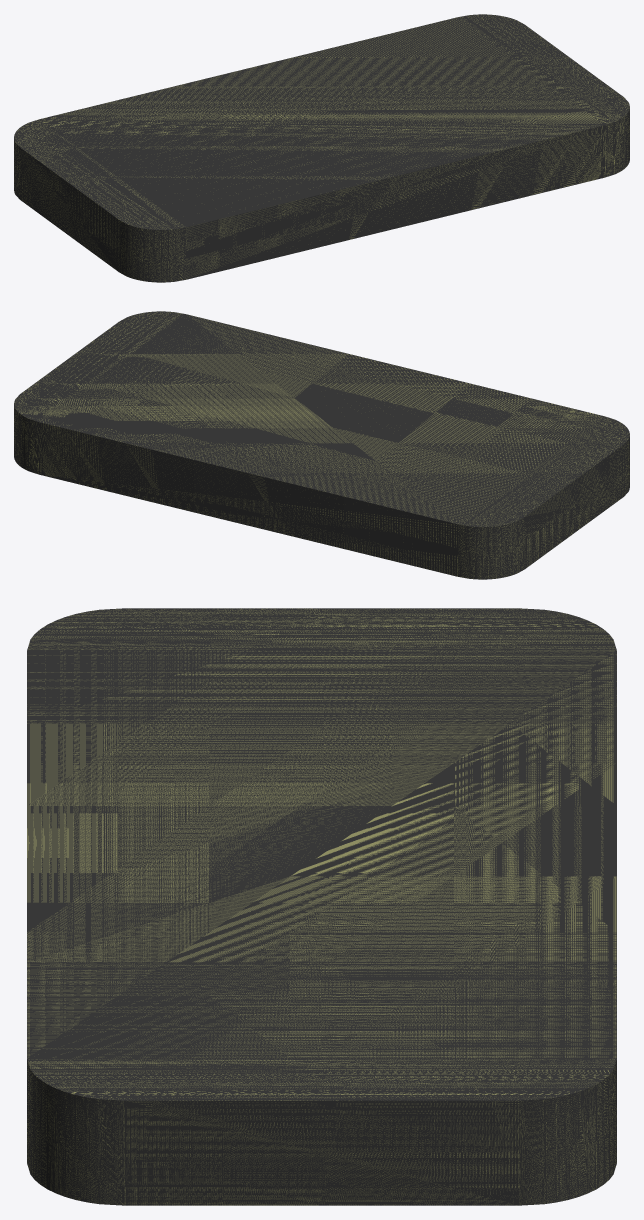
Rendered from original-5.obj.
3 views of the same model, one above another, from view 1: azimuth 30°, elevation 25°; view 2: azimuth 150°, elevation 25°; view 3: azimuth 270°, elevation 25° (orthographic). The views are drawn at different scales.
Visible parts, largest first — view 1: mesh4/mesh4-geometry#mesh4-geometry; view 2: mesh4/mesh4-geometry#mesh4-geometry; view 3: mesh4/mesh4-geometry#mesh4-geometry.
Part boxes in pixels (x1=…): mesh4/mesh4-geometry#mesh4-geometry: x1=14, y1=14, x2=629, y2=282; mesh4/mesh4-geometry#mesh4-geometry: x1=14, y1=311, x2=629, y2=579; mesh4/mesh4-geometry#mesh4-geometry: x1=27, y1=608, x2=616, y2=1205.
Bounding box in the file's own units: 0.1114 × 0.0111 × 0.0564.
